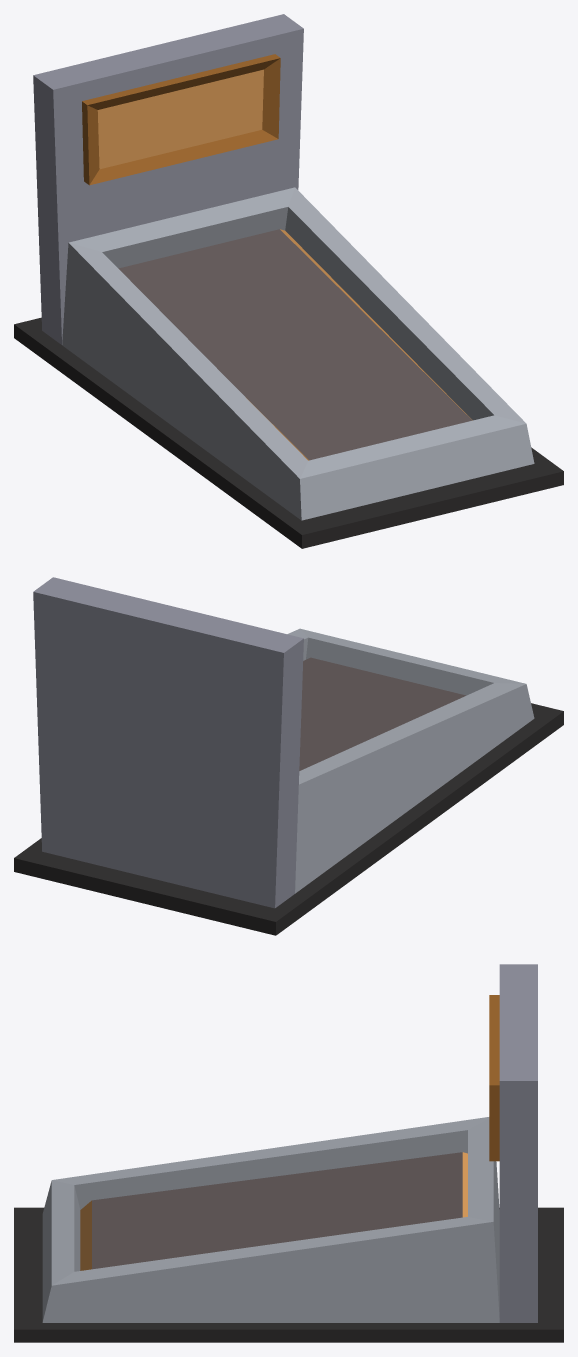
Rendered from HWN20_Grave_29.glb.
The picture shows the model from 3 angles, top to bottom: view 1: azimuth 30°, elevation 25°; view 2: azimuth 150°, elevation 25°; view 3: azimuth 270°, elevation 25°; orthographic projection. The views are drawn at different scales.
Visible parts, largest first — view 1: HWN20_Grave_29; view 2: HWN20_Grave_29; view 3: HWN20_Grave_29.
Part boxes in pixels (bbox=[...]): HWN20_Grave_29: bbox=[14, 14, 563, 548]; HWN20_Grave_29: bbox=[14, 577, 563, 935]; HWN20_Grave_29: bbox=[14, 964, 563, 1342].
Size of what is drawn, in the model's own units: 0.9895 by 0.98 by 1.88.
1 material, 1 textured.
